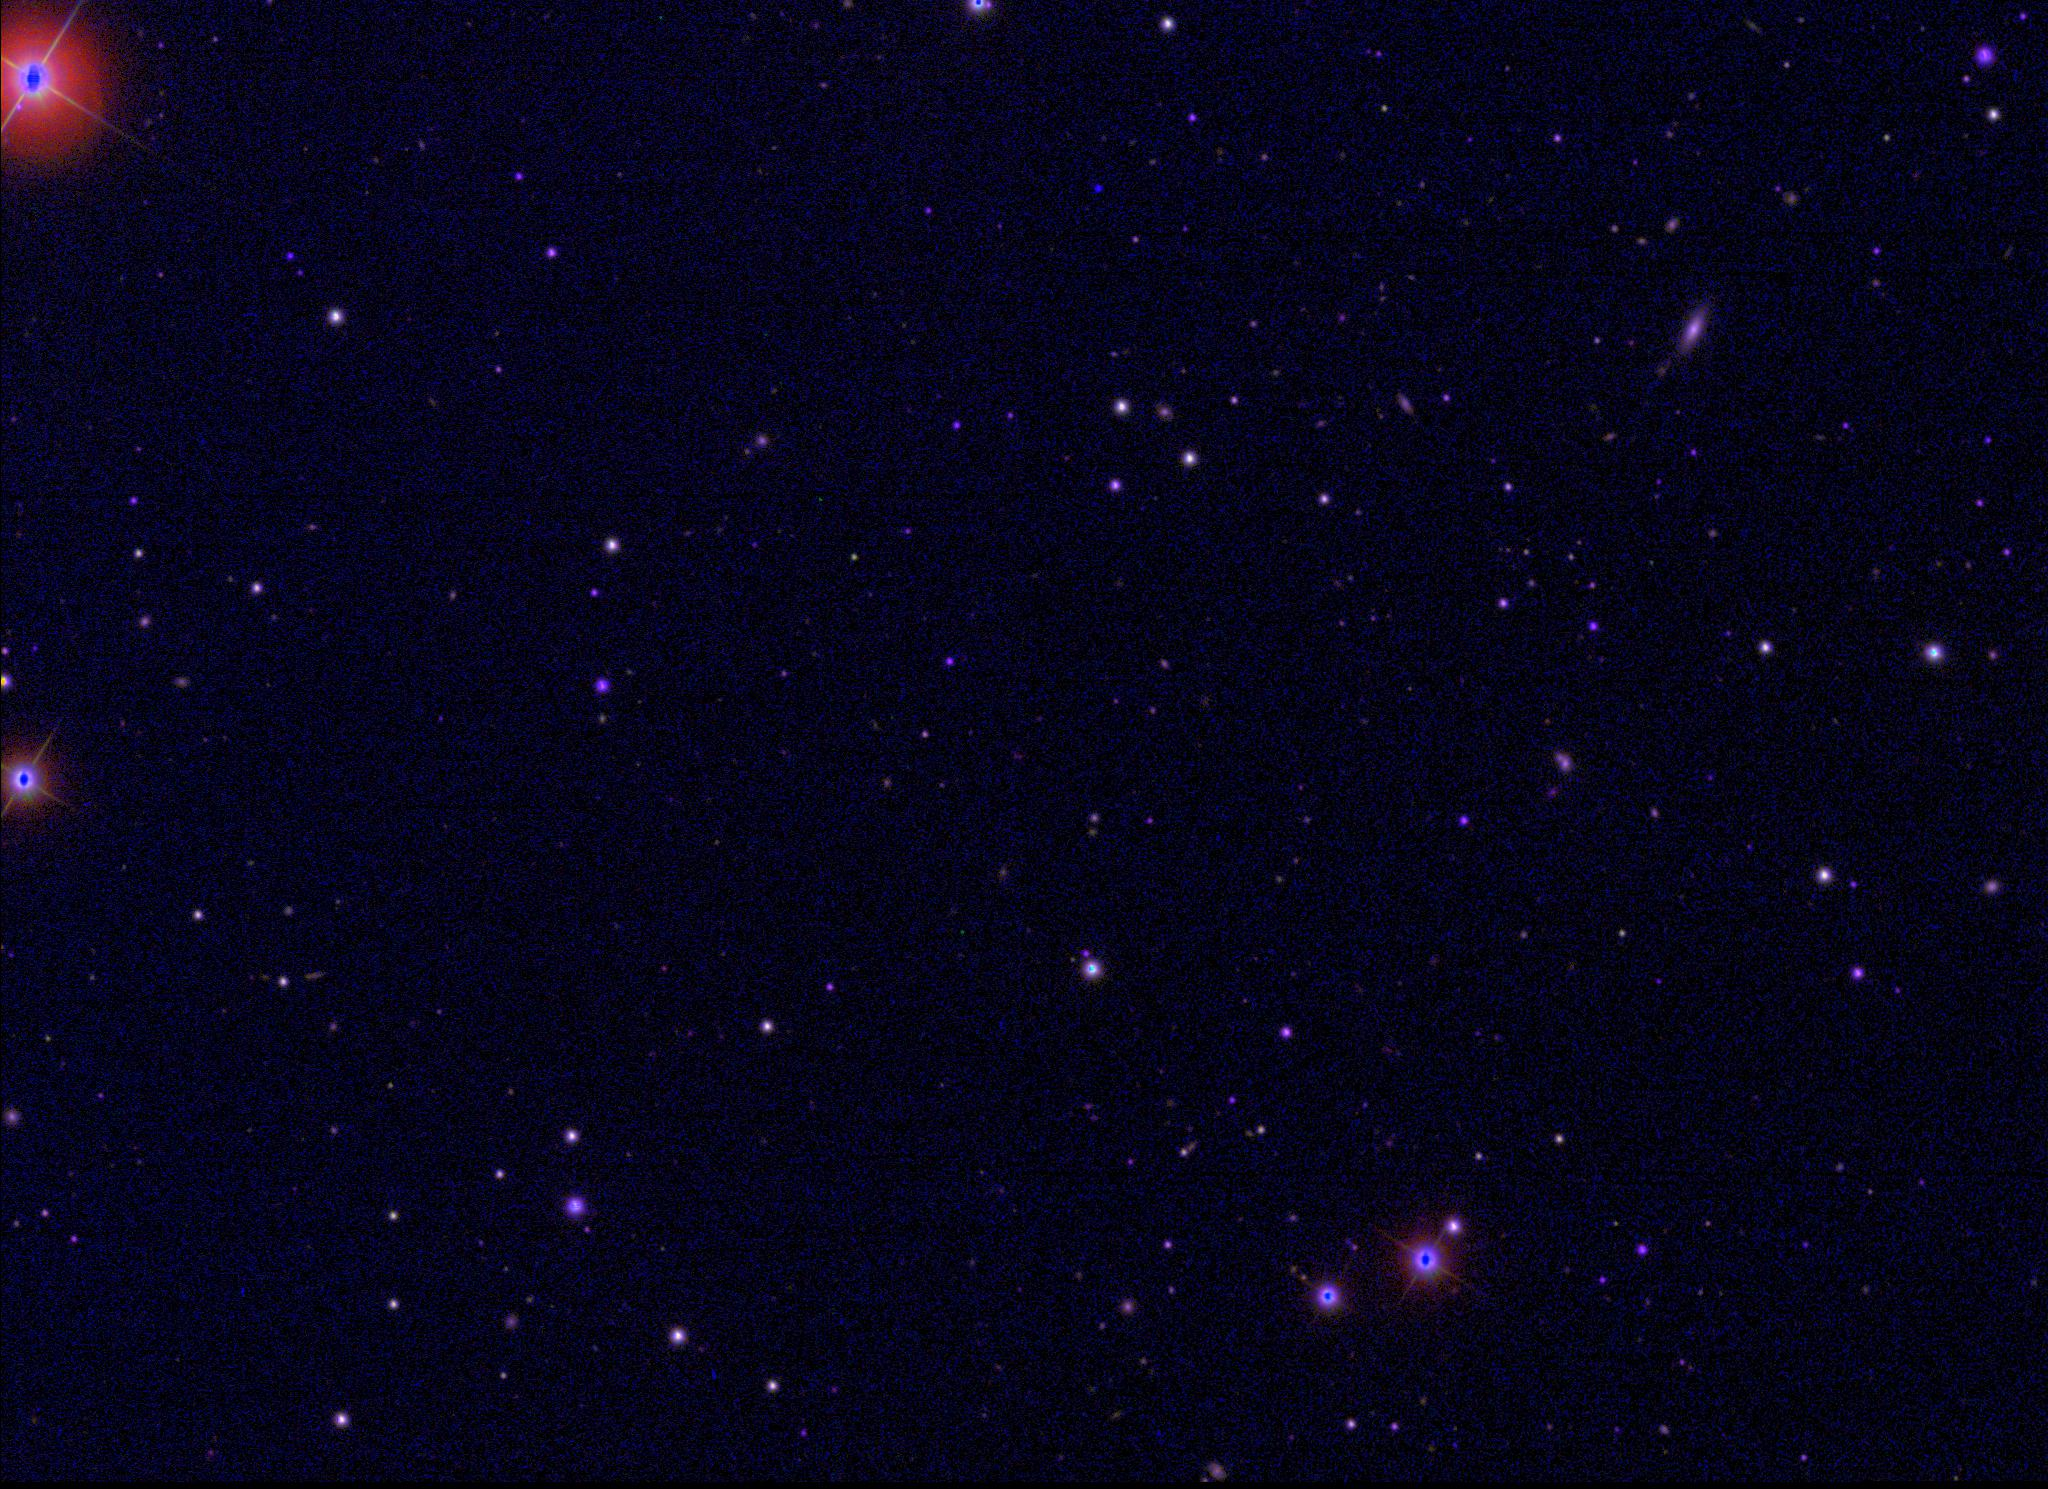L: (1091, 181, 1105, 196)
